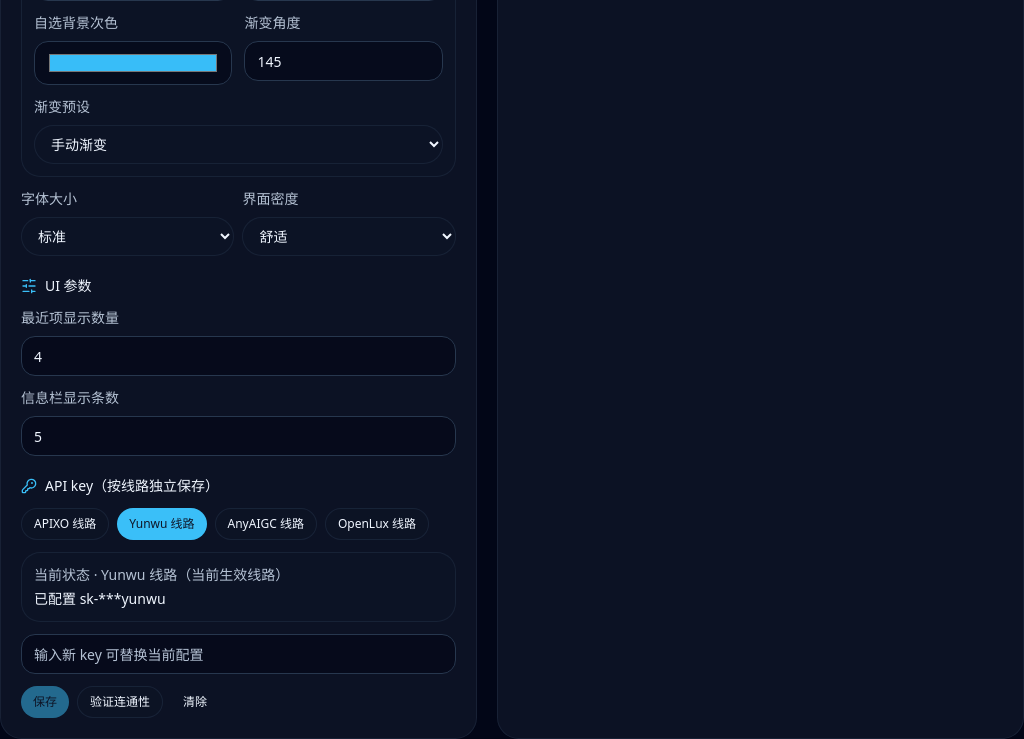
Scenario: settings page › keeps each provider route's api key state separate in the key panel
(page scrolled)
Expected: the text "已配置 sk-***yunwu" is shown, [34, 589, 166, 608]
切到 APIXO 的密钥页签：该线路自己的状态是未配置。
Click the button "APIXO 线路" at (65, 524), box [21, 508, 109, 540]
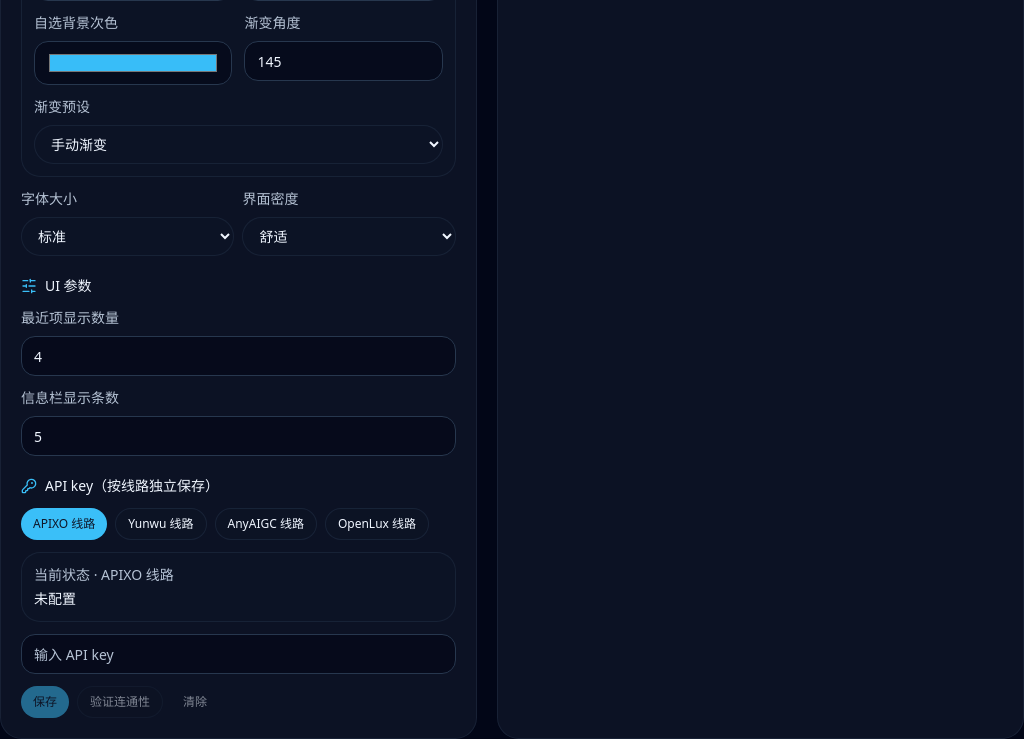
Now the text "未配置" is shown, box [34, 589, 76, 608]
在 APIXO 页签保存的 key 只会写到 APIXO 线路。
Type "sk-apixo-only" into the password field labelled "API key" at (238, 654), box [21, 634, 456, 674]
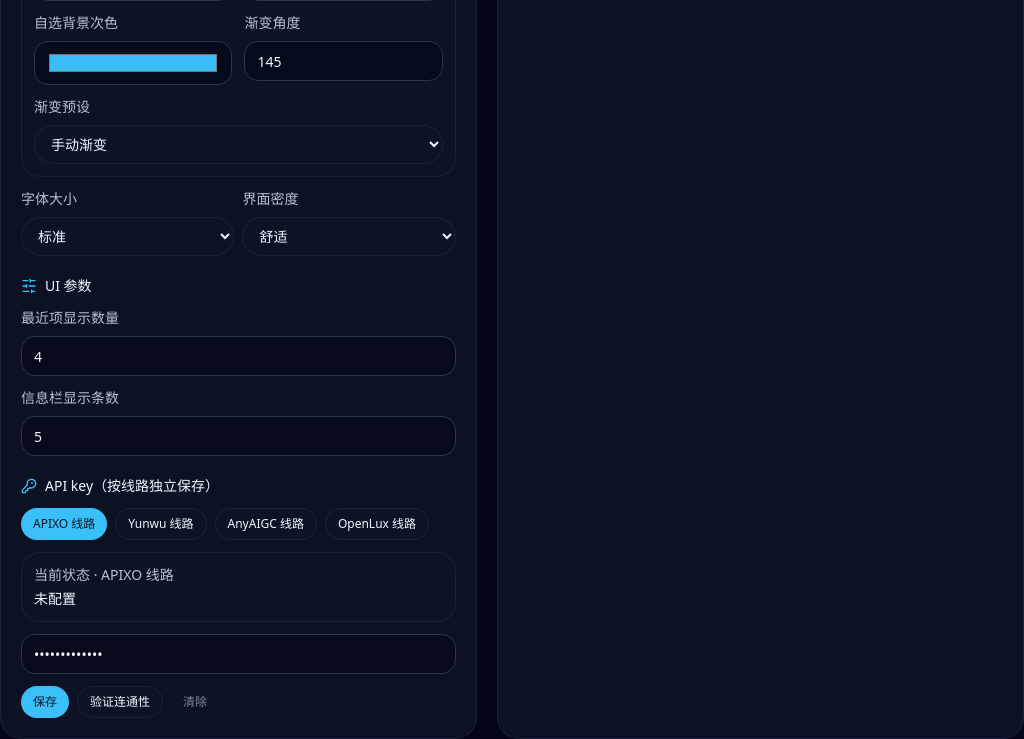
Click the button "保存" at (45, 702), box [21, 686, 69, 718]
(page scrolled)
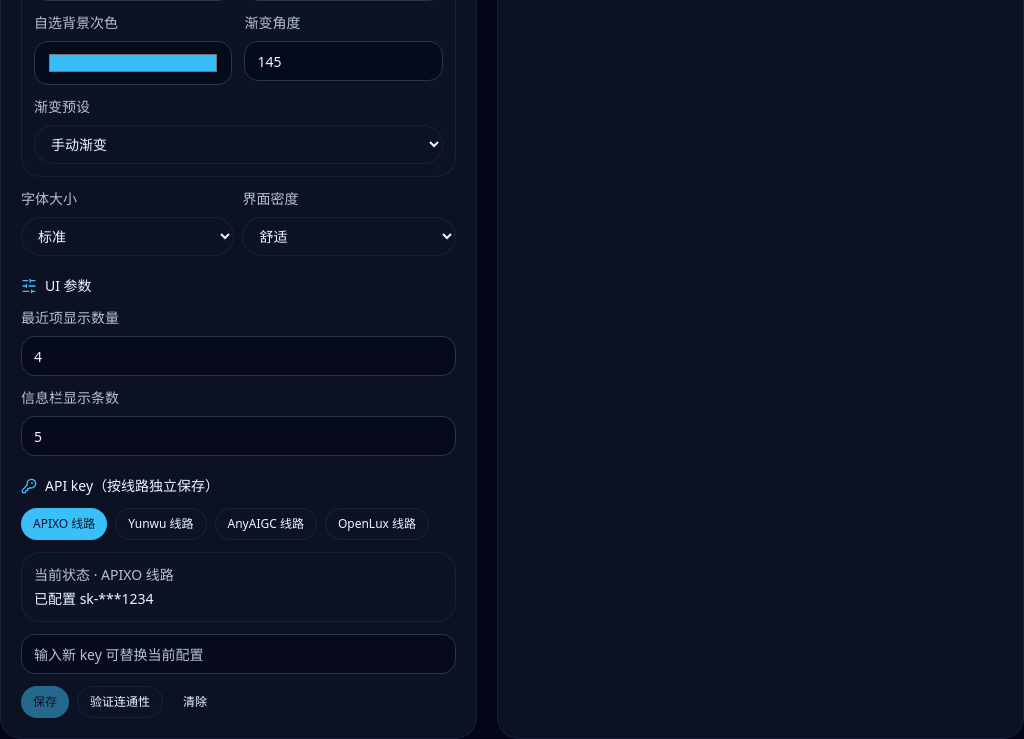
切回 Yunwu，原有掩码状态仍在。
Click the button "Yunwu 线路" at (161, 524), box [115, 508, 206, 540]
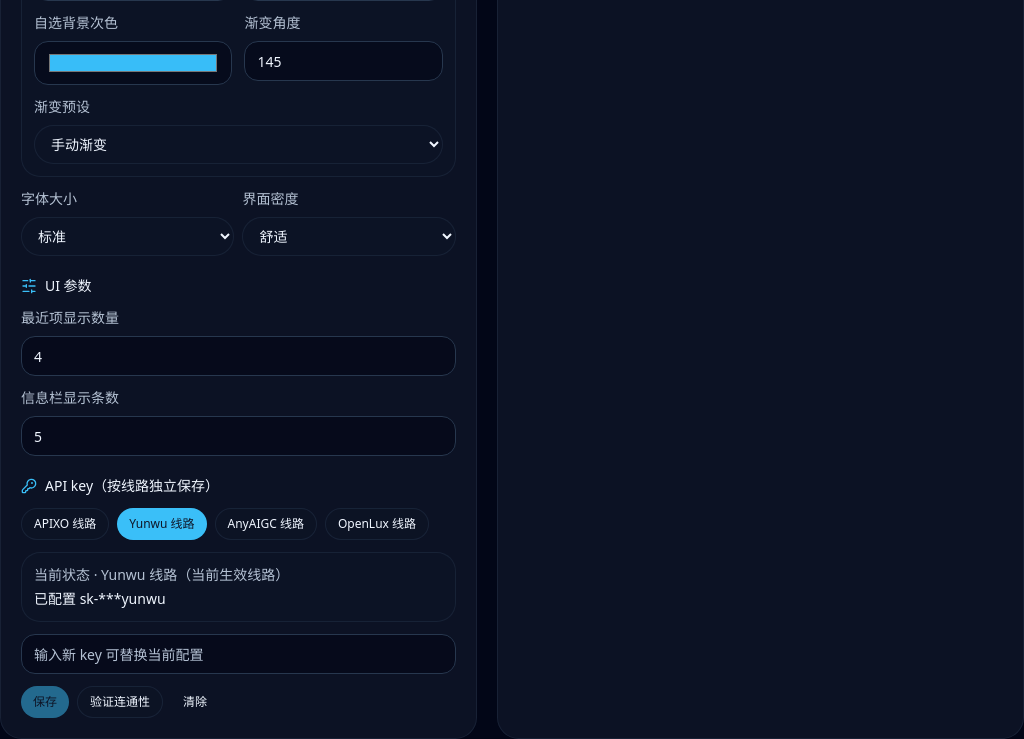
Now the text "已配置 sk-***yunwu" is shown, box [34, 589, 166, 608]
